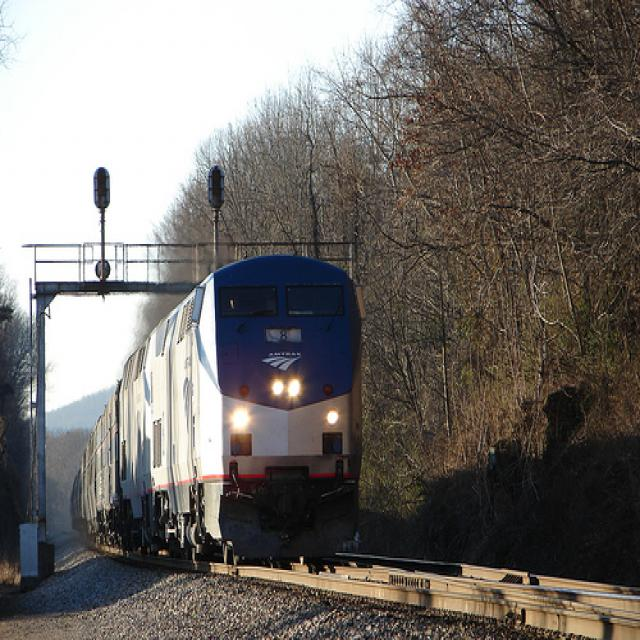locomotive: (117, 229, 376, 593)
